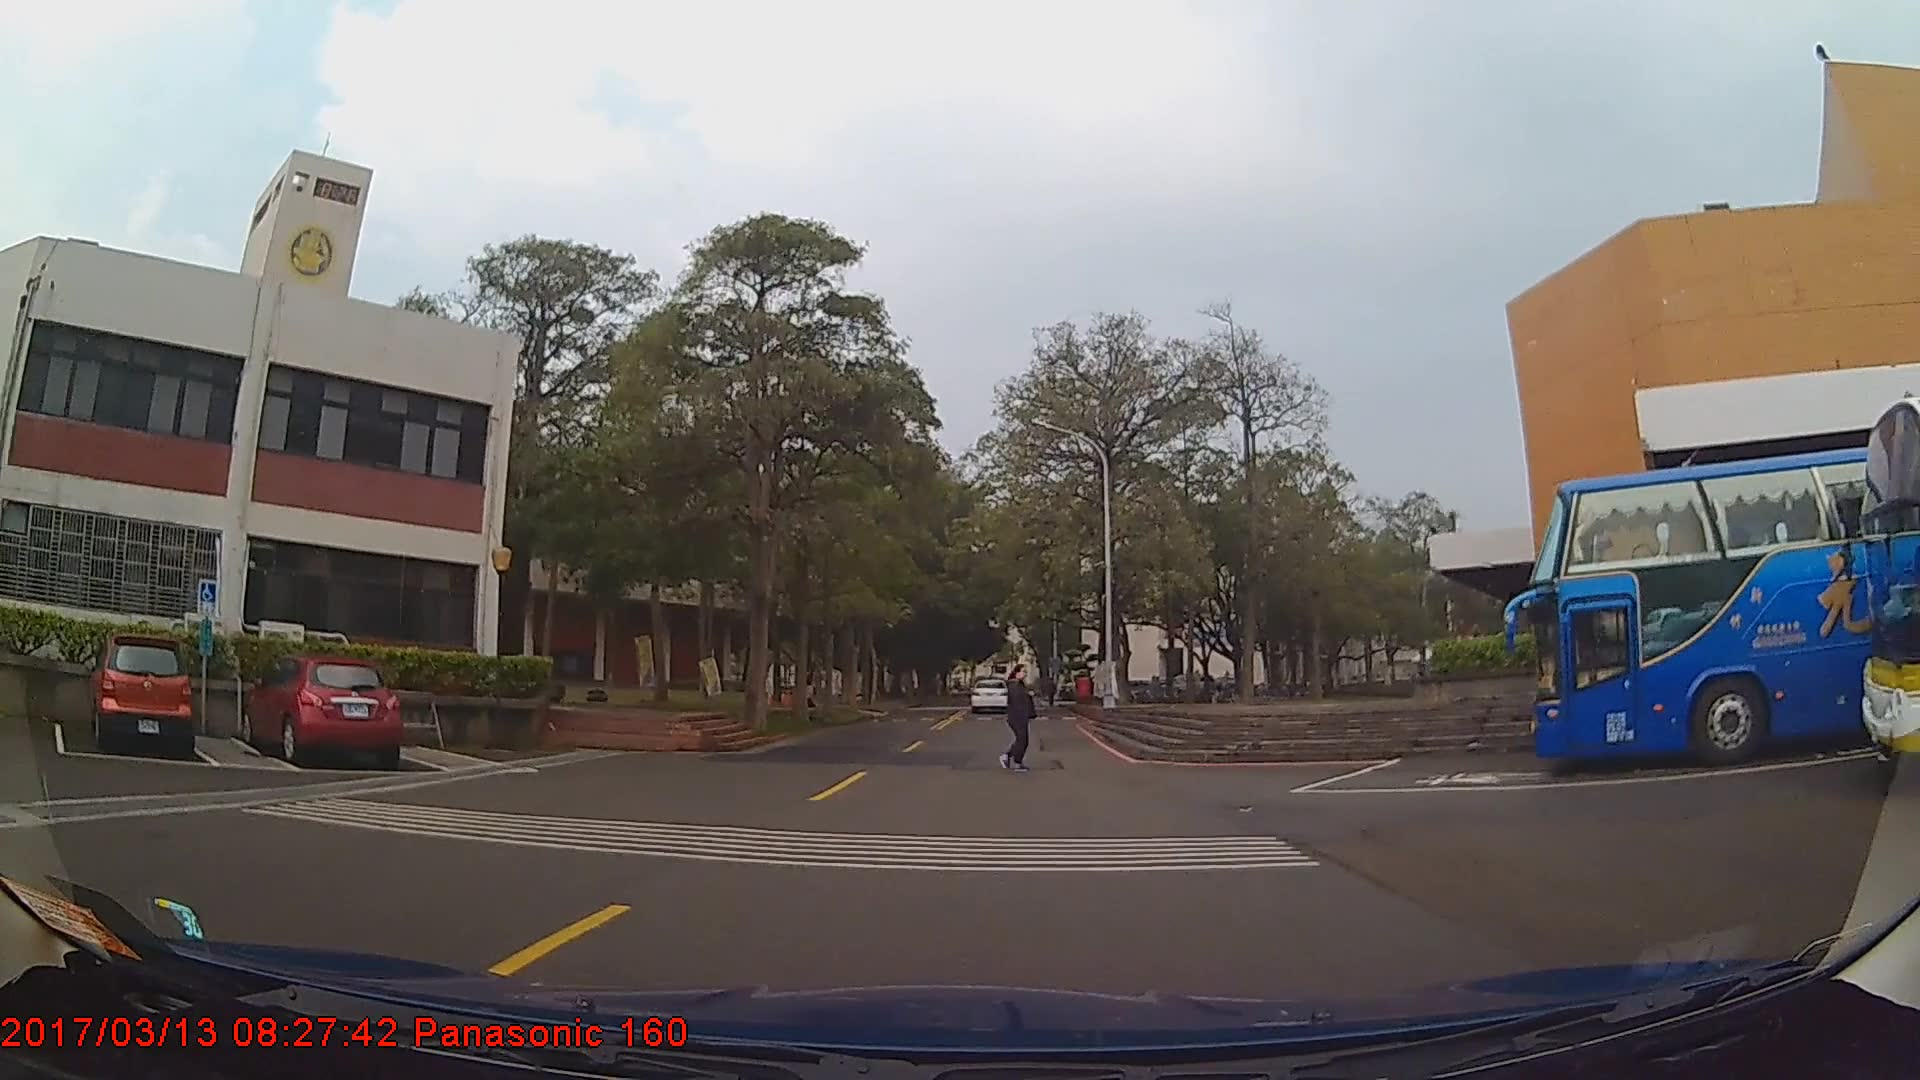pedestrian: (989, 661, 1050, 776)
vehicle: (1531, 432, 1920, 771), (237, 657, 400, 769), (88, 636, 195, 752), (971, 674, 1011, 712)
